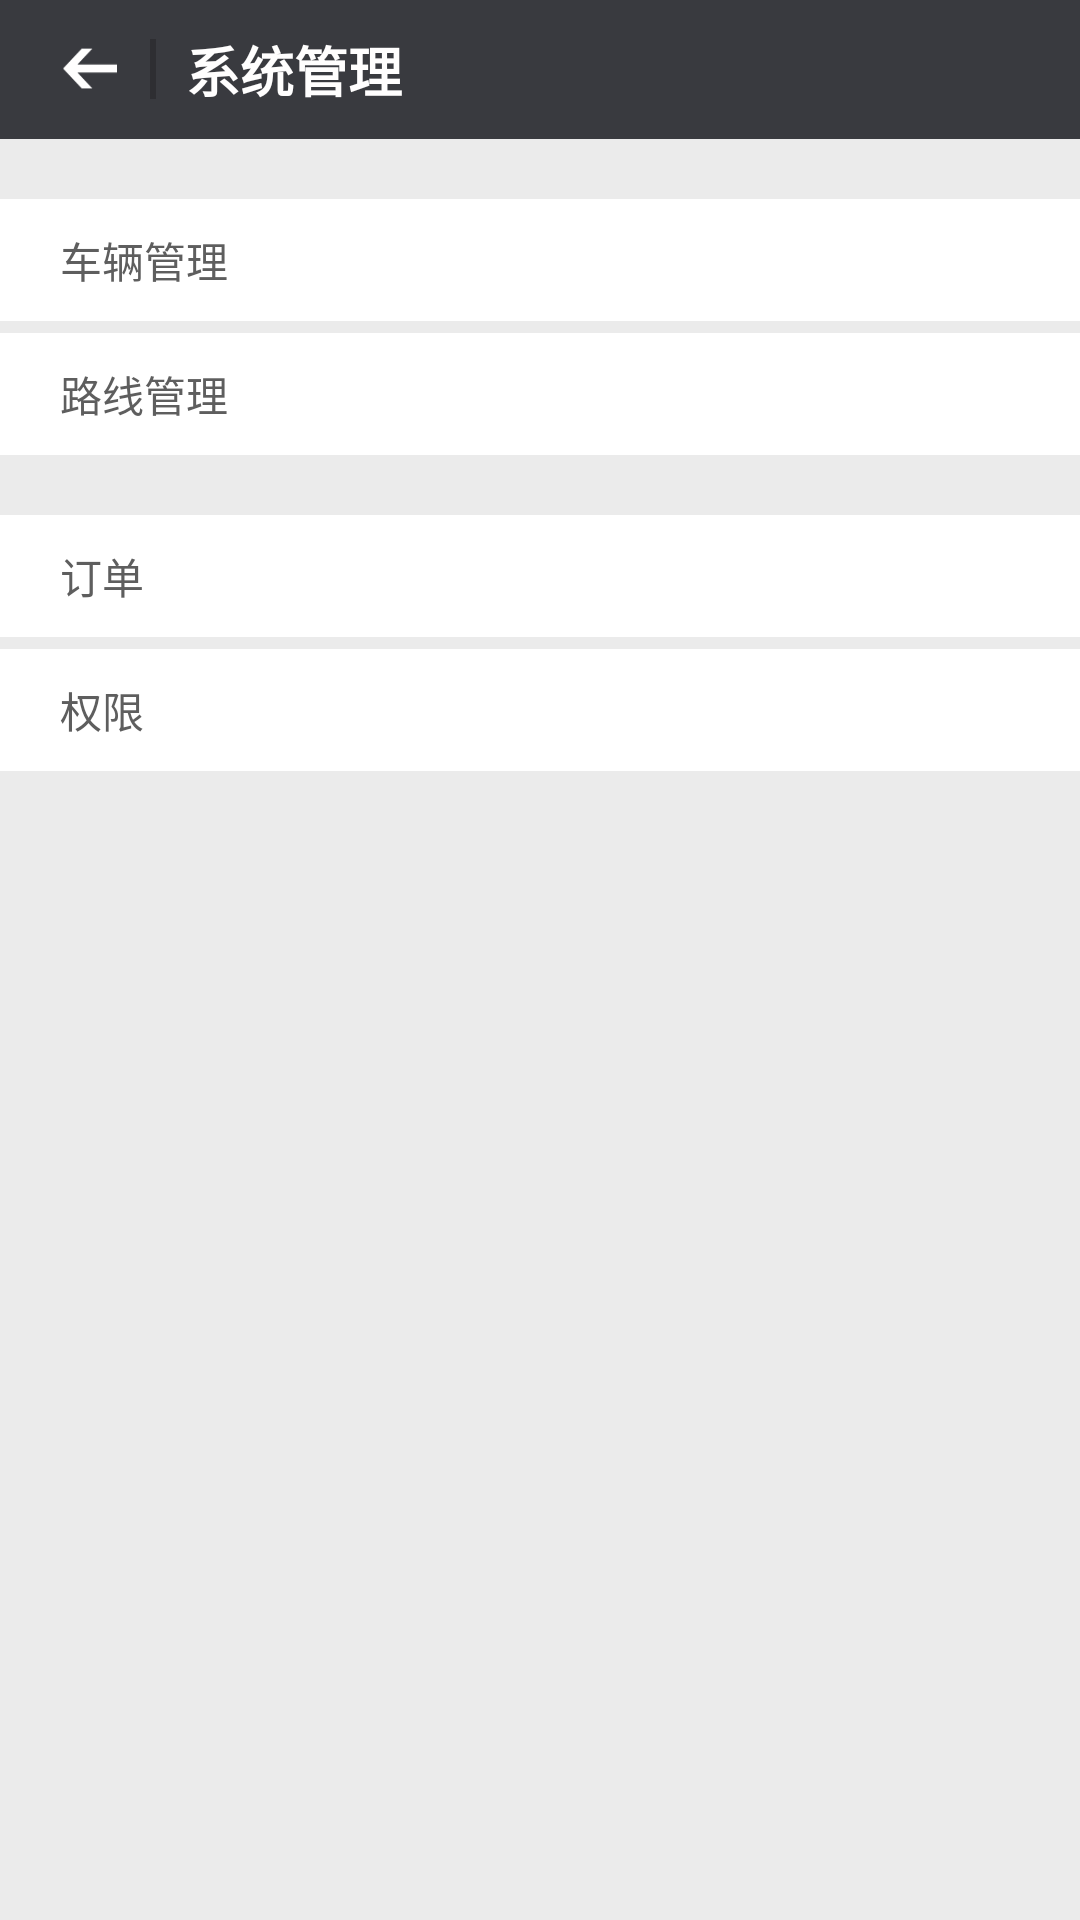

Locate icon controls on the screen. Image size 1080 × 1920, boxes as [left=x1, top=y1, right=x2, bottom=y2].
back: [left=63, top=48, right=117, bottom=89]
